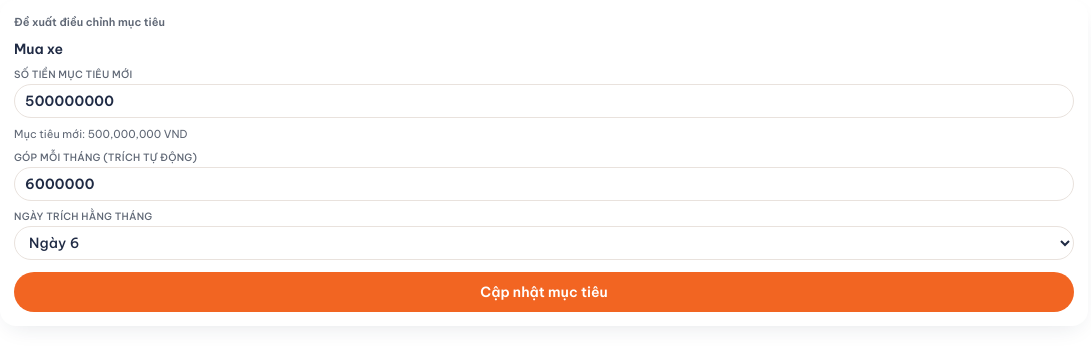
Test: AgentGoalAdjustCard — monthly plan › sets the auto-debit after the target changes, with the amount the customer chose
The image size is (1091, 346).
Replace the text in the field labelled "Góp mỗi tháng (trích tự động)" with "7000000" at [544, 184], box [14,167,1074,201]
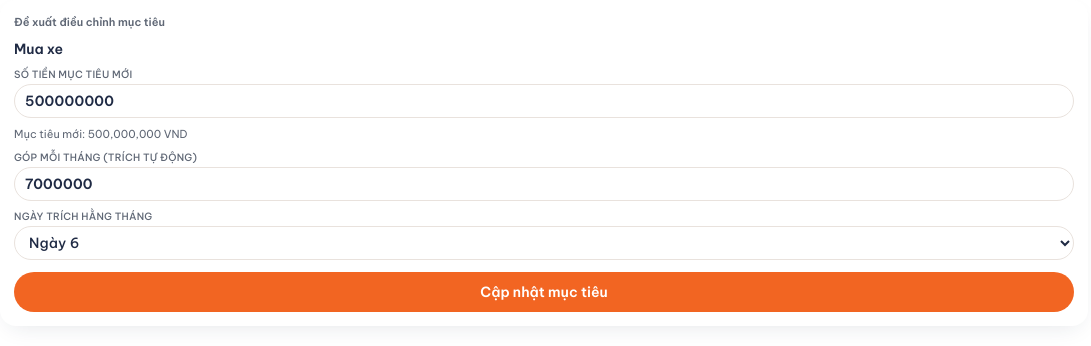
Click the button "Cập nhật mục tiêu" at [544, 292], box [14,272,1074,312]
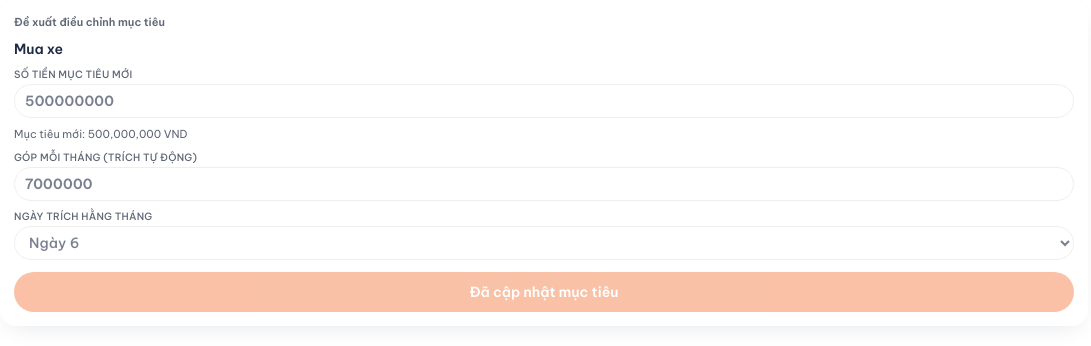
Check: the button "Đã cập nhật mục tiêu" is disabled, box [14,272,1074,312]
